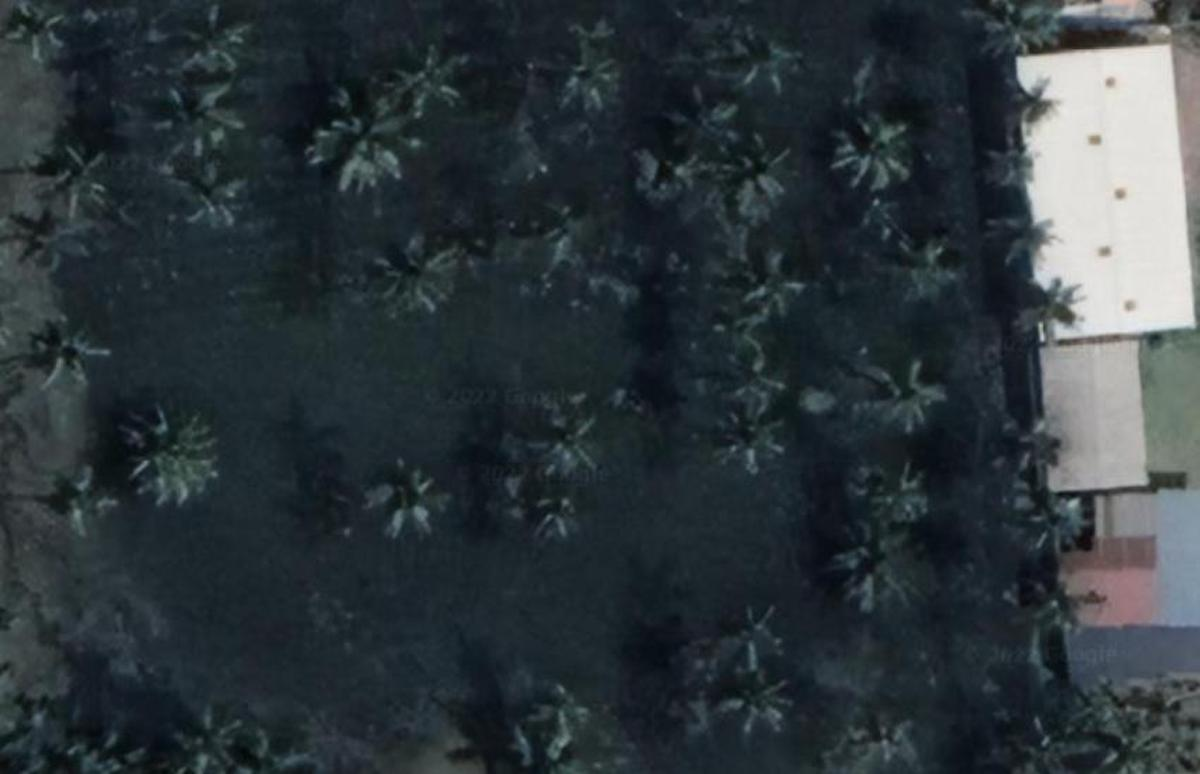coconut: (304, 81, 400, 191), (824, 523, 919, 621), (152, 71, 243, 159), (833, 100, 917, 194), (507, 401, 602, 484), (40, 124, 124, 215), (717, 138, 807, 222), (1016, 565, 1106, 648), (372, 226, 458, 312), (26, 308, 107, 396), (362, 456, 444, 542), (867, 358, 951, 441), (628, 136, 712, 217), (172, 693, 256, 774), (389, 39, 472, 119), (716, 661, 799, 740), (851, 456, 933, 535), (709, 391, 792, 468), (669, 70, 747, 150), (14, 198, 95, 273), (542, 32, 619, 109), (176, 160, 255, 234), (1018, 489, 1099, 561), (520, 671, 595, 748), (837, 699, 916, 771), (167, 4, 249, 73), (0, 0, 81, 67), (1008, 262, 1078, 339), (891, 231, 964, 304), (712, 342, 782, 417), (734, 32, 813, 98), (737, 243, 809, 315), (38, 465, 108, 538), (719, 597, 788, 671), (981, 0, 1061, 63), (518, 475, 586, 548), (984, 198, 1060, 263), (995, 413, 1068, 476), (971, 131, 1039, 197), (995, 69, 1064, 126)
